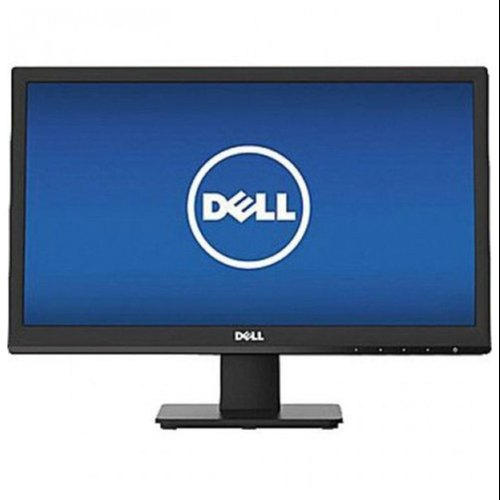dell-monitor-D1918H: (3, 65, 491, 432)
